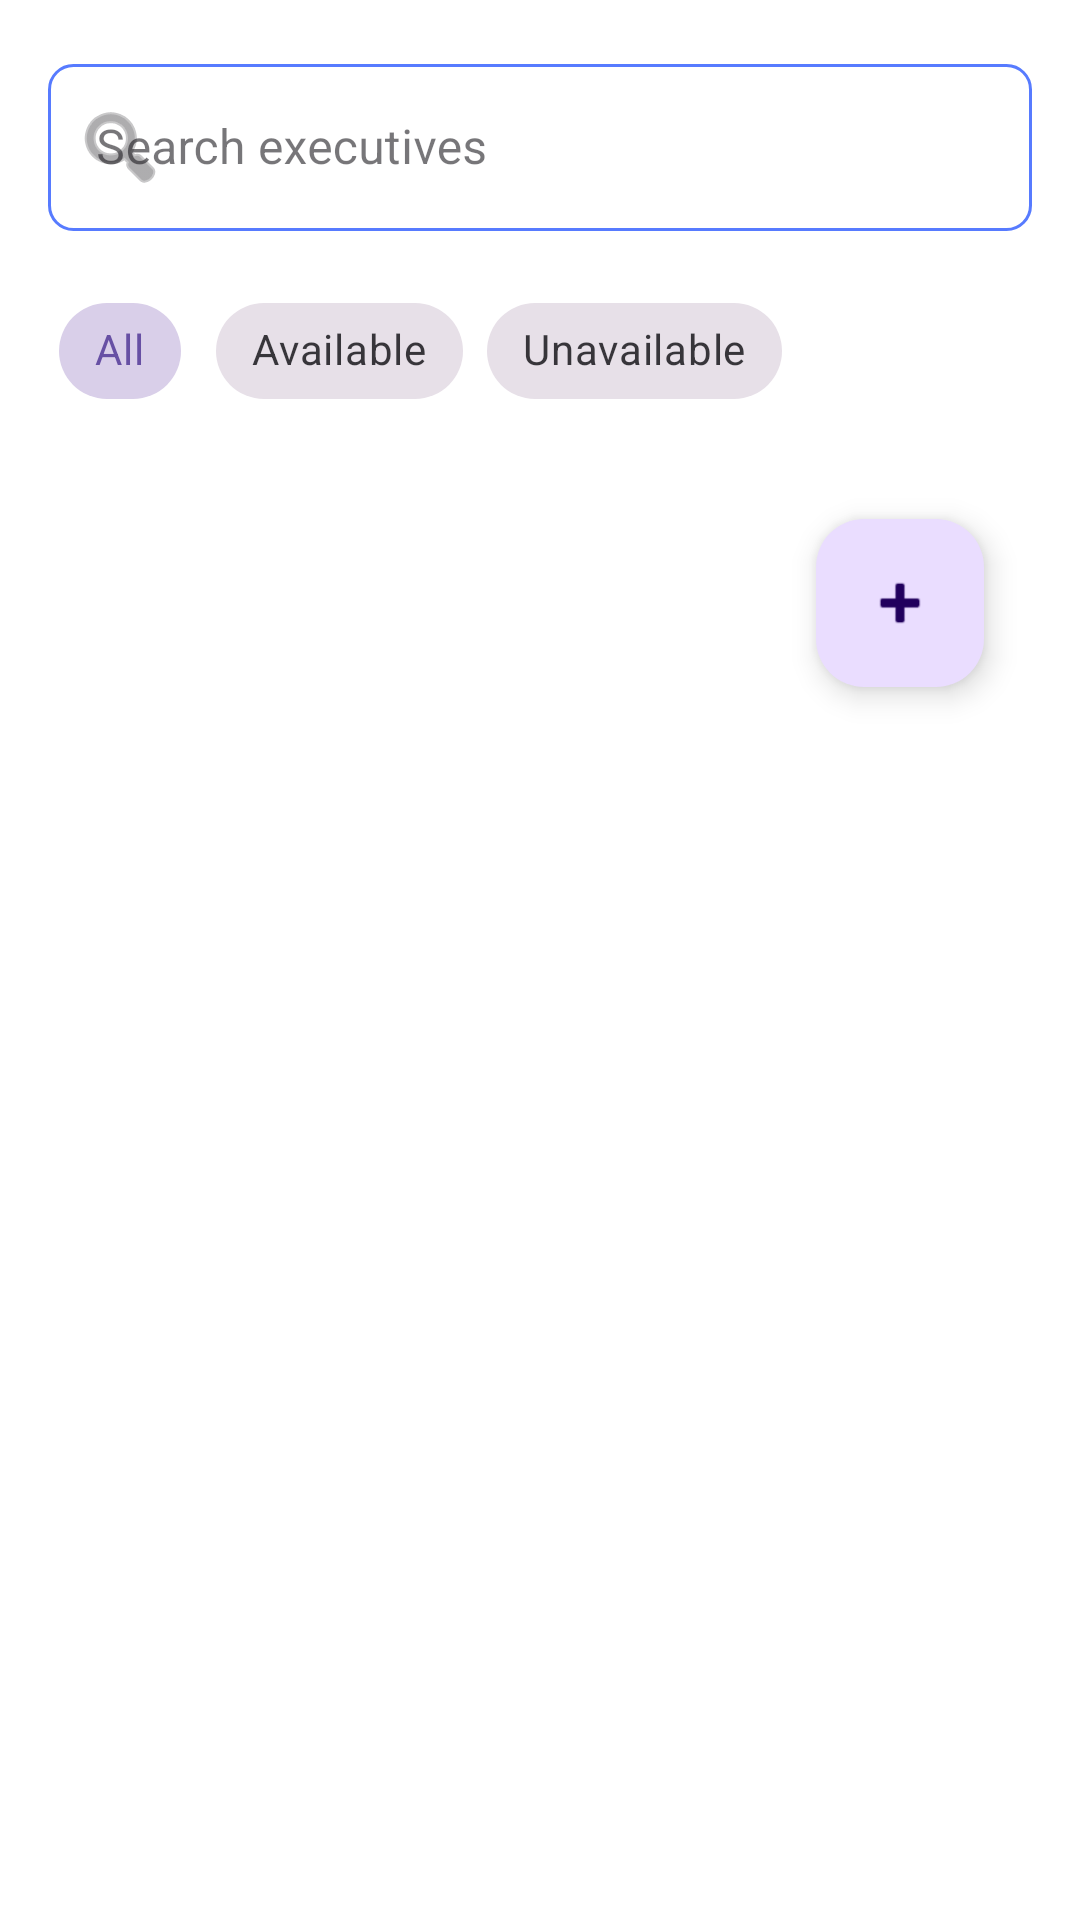

Point at icon controls on the screen. Image size 1080x1920, points as [x,y].
add: [900,603]
